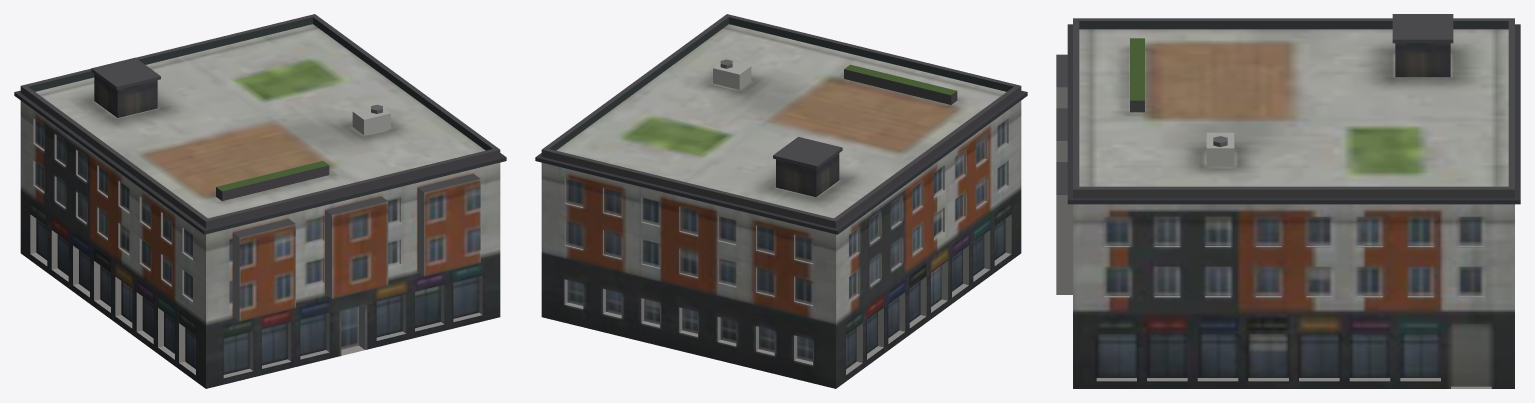
The model's file is seattle_low_f.glb.
3 renders of one model, left to right at view 1: azimuth 30°, elevation 25°; view 2: azimuth 150°, elevation 25°; view 3: azimuth 270°, elevation 25°, orthographic. The views are drawn at different scales.
Visible parts, largest first — view 1: seattle_low_f; view 2: seattle_low_f; view 3: seattle_low_f.
Boxes of the visible parts, left/top/right/bottom form: seattle_low_f: left=14, top=14, right=506, bottom=388; seattle_low_f: left=535, top=14, right=1027, bottom=388; seattle_low_f: left=1056, top=14, right=1520, bottom=388.
Size of the model in its own units: 22.6 by 13.77 by 25.2.
Materials: 1 (1 with a texture image).
